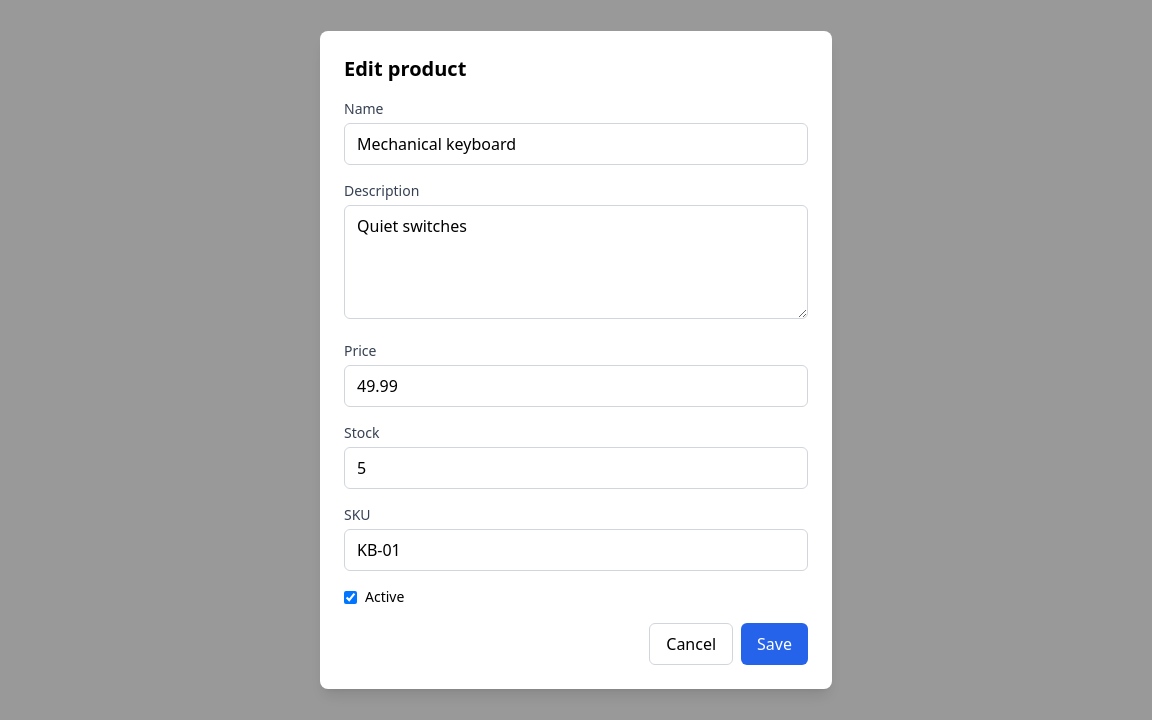
Scenario: ProductFormModal (save flow) › renders every message of a multi-message 422 array under its field, linked for screen readers
The image size is (1152, 720).
Click the button "Save": (775, 644) [741,623,808,665]
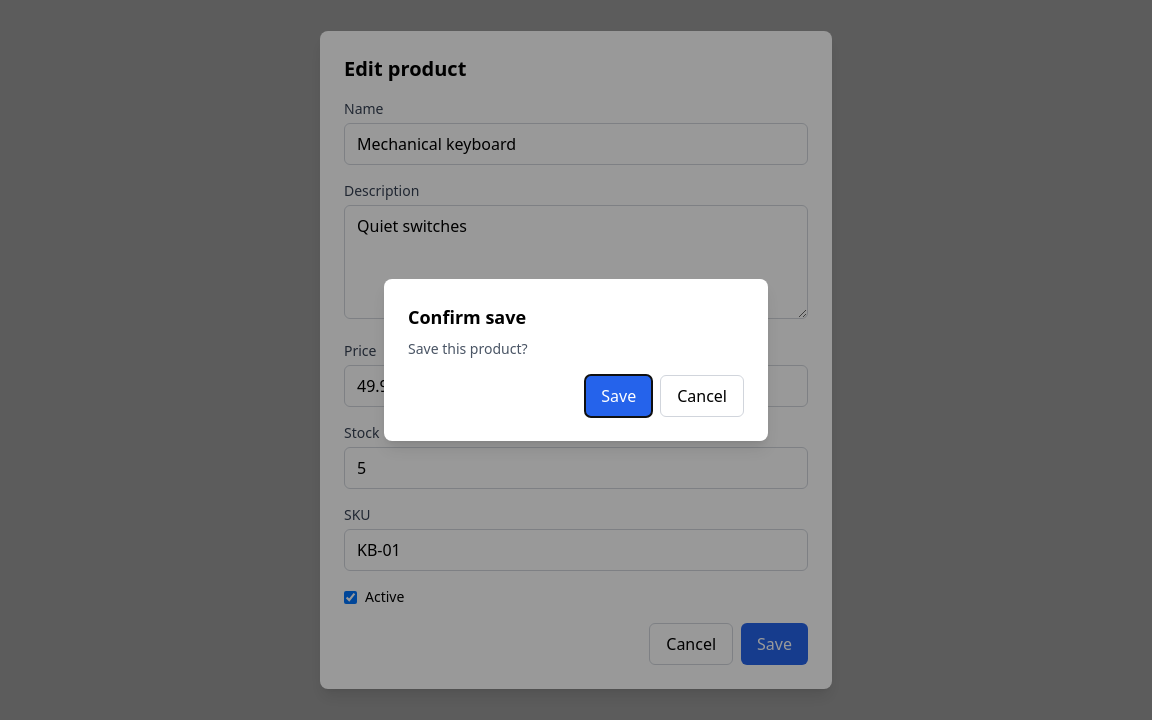
Click the button "Save": (619, 396) [585,375,652,417]
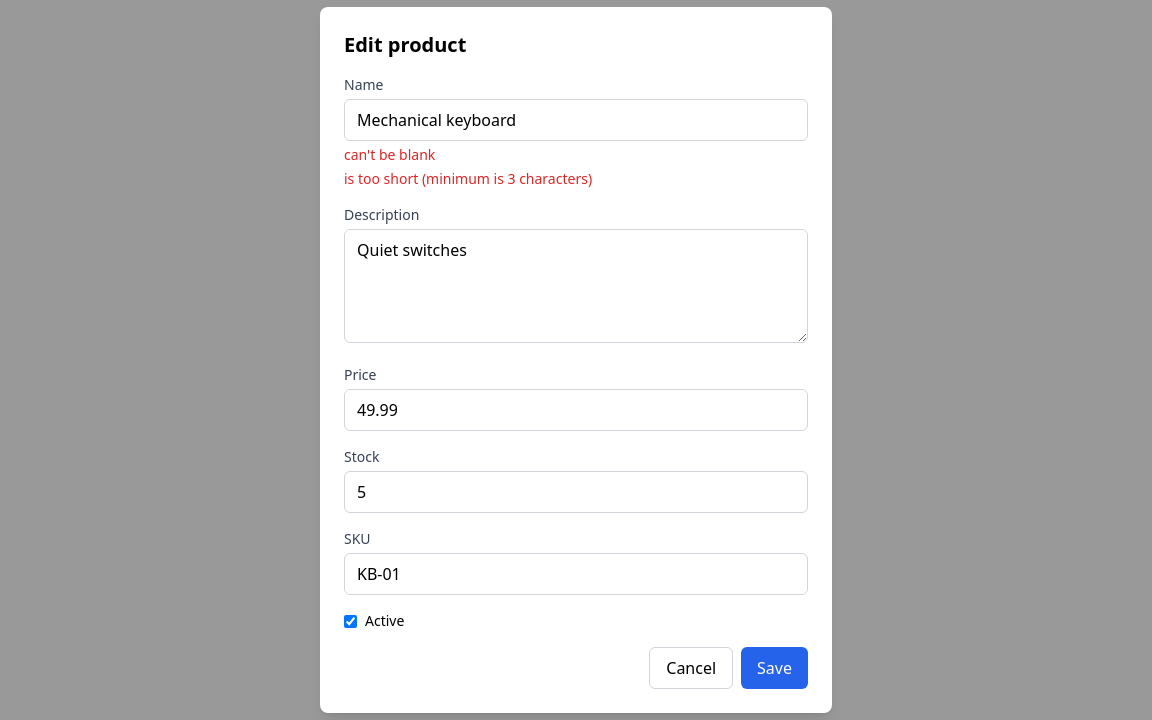
Expected: the text "can't be blank" is shown, [344,145,435,164]
Expected: the text "is too short (minimum is 3 characters)" is shown, [344,169,592,188]
Expected: the element showing "can't be blank is too short (minimum is 3 characters)" is shown, [344,145,592,188]
